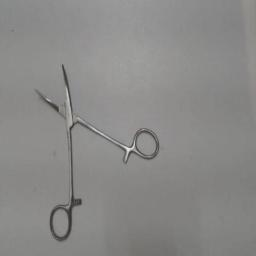Crile Artery Forceps: (30, 58, 160, 244)
